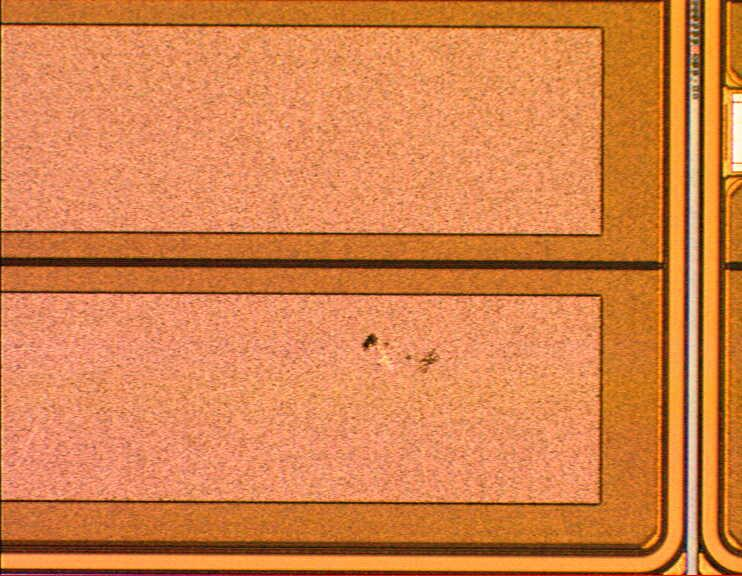SCRATCH: (331, 330, 461, 388)
